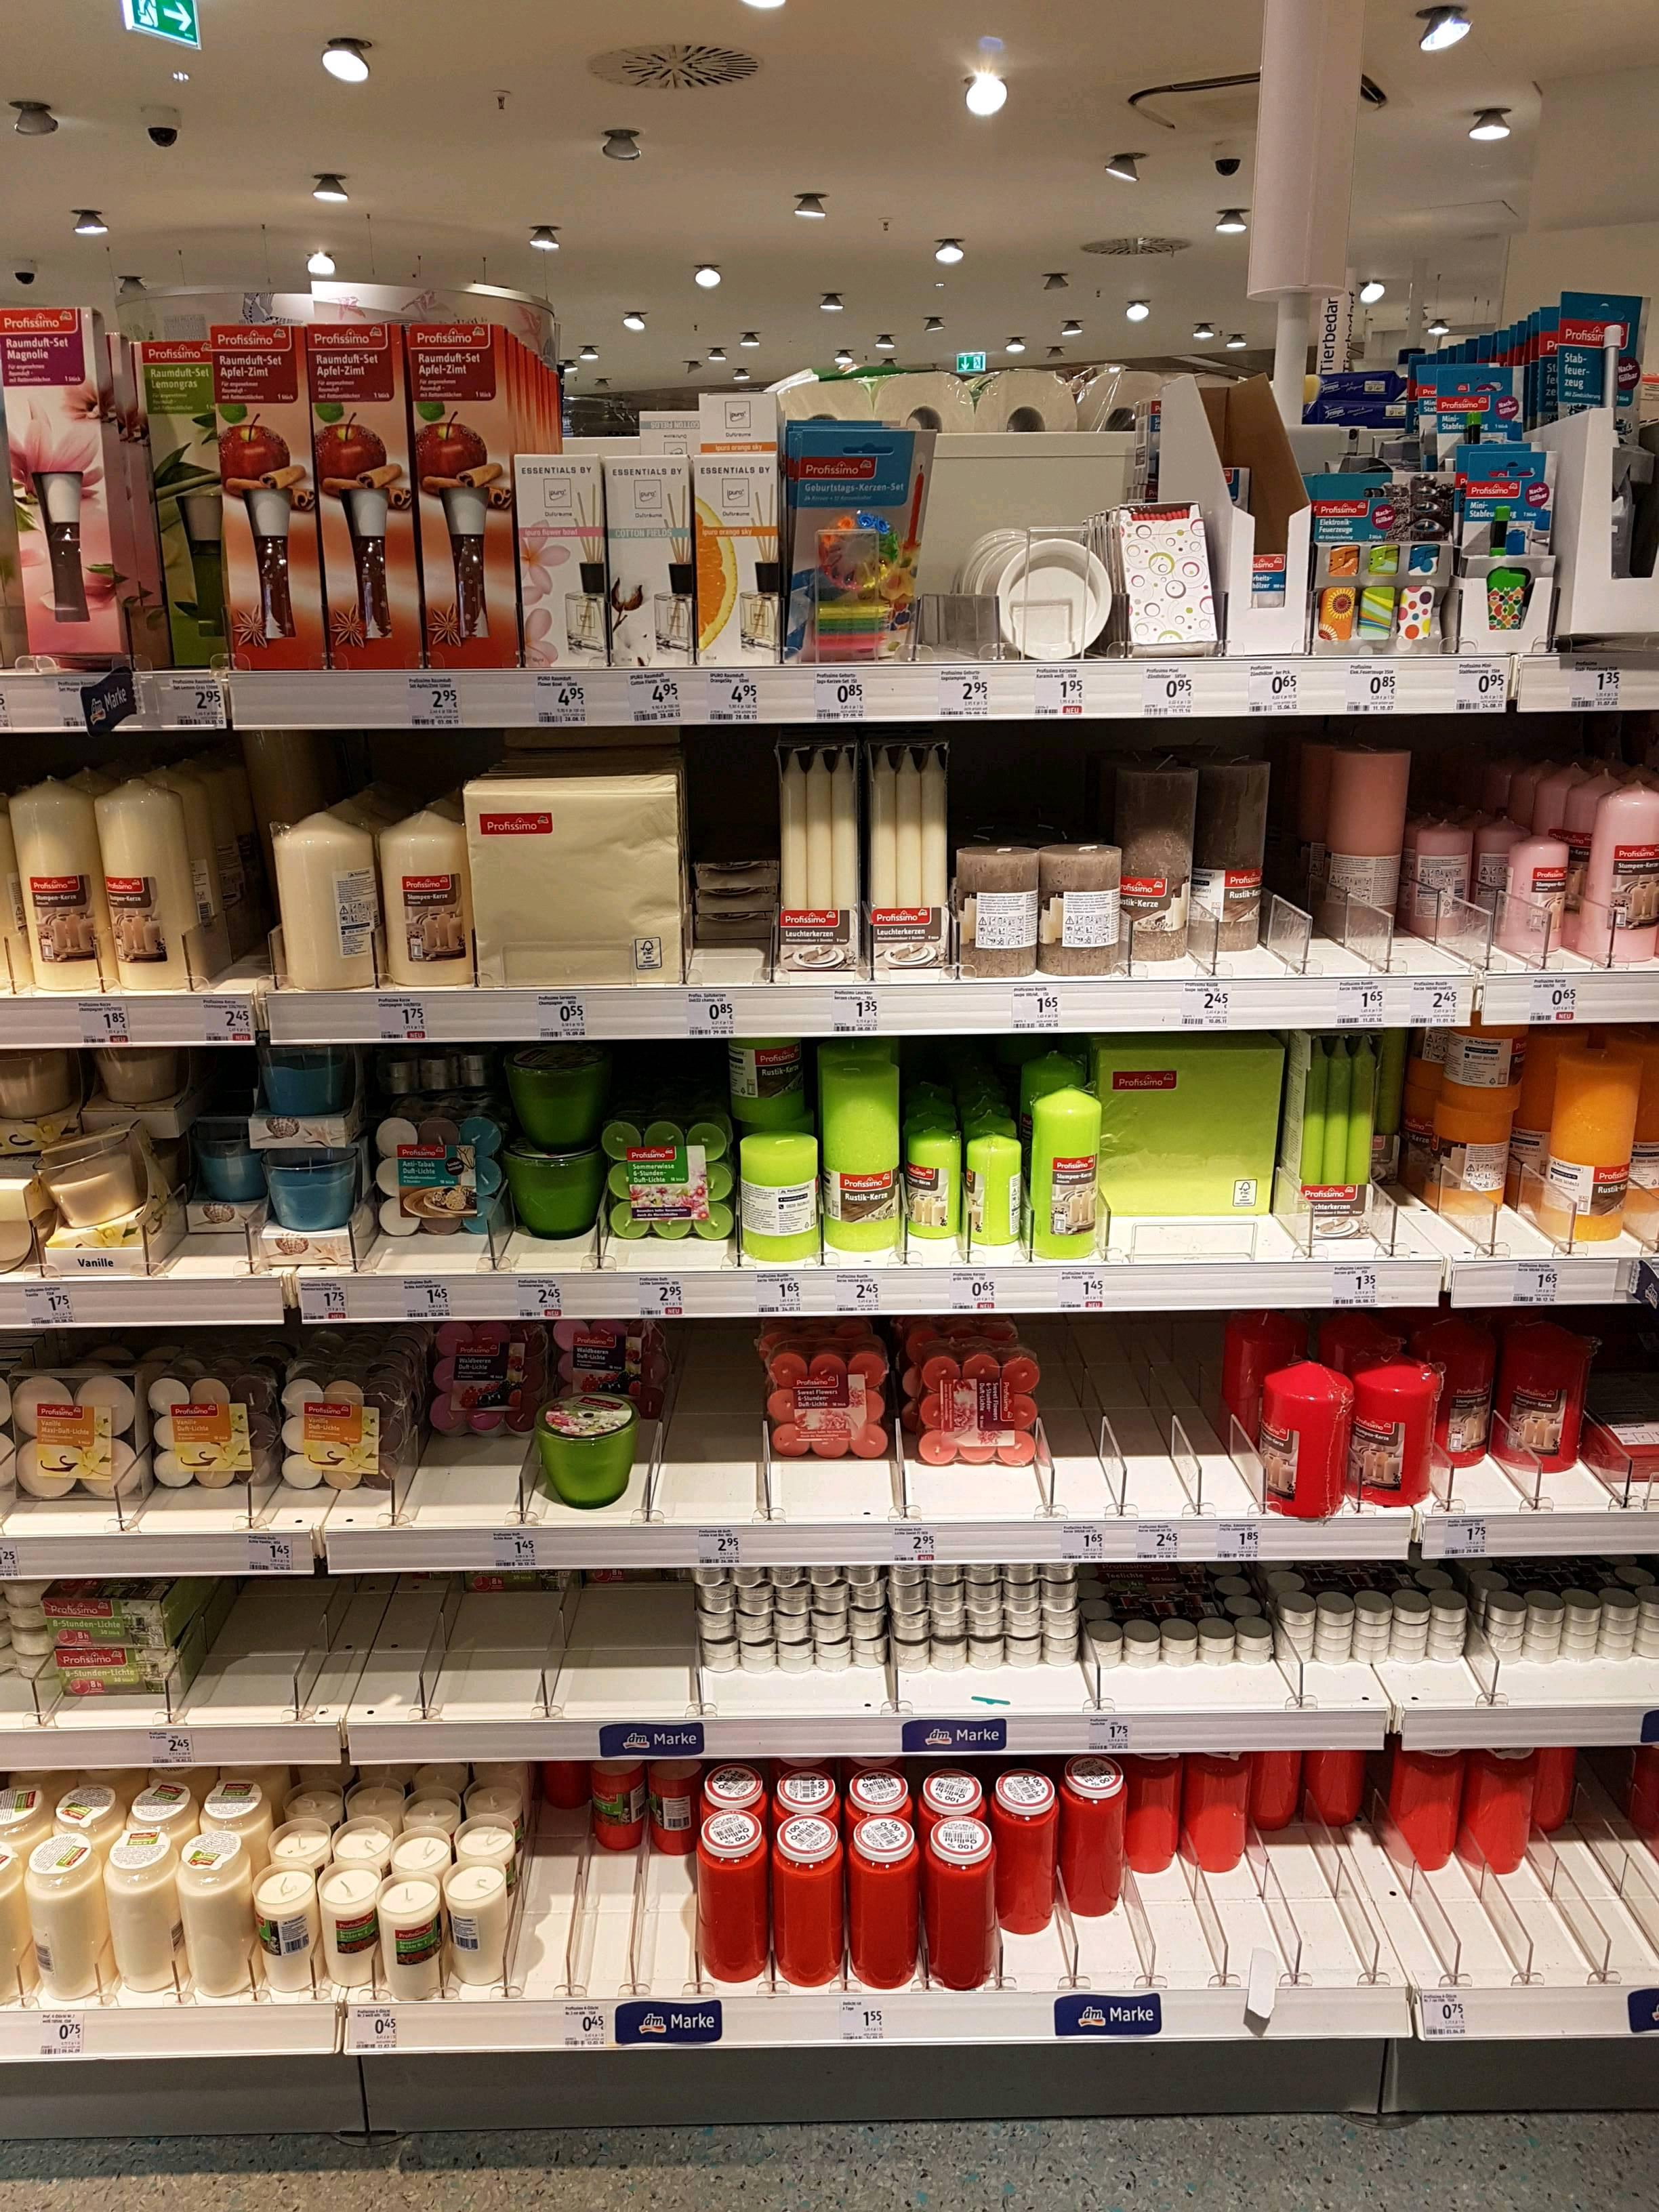empty: (174, 1581, 305, 1726), (566, 1568, 695, 1714), (303, 1571, 432, 1717), (429, 1573, 558, 1717), (671, 1338, 760, 1507), (406, 1390, 518, 1524), (1117, 1332, 1188, 1503), (1046, 1334, 1117, 1503), (1185, 1334, 1256, 1503), (209, 815, 279, 984), (1276, 789, 1335, 975), (518, 1811, 577, 1998), (1363, 1829, 1429, 1984), (1147, 1843, 1213, 1996), (573, 1846, 638, 2001), (634, 1843, 699, 1998), (1441, 1839, 1506, 1994), (1595, 1820, 1659, 1975), (1220, 1848, 1284, 2001), (1293, 1836, 1358, 1989), (1523, 1836, 1588, 1989), (1384, 1150, 1455, 1252)
